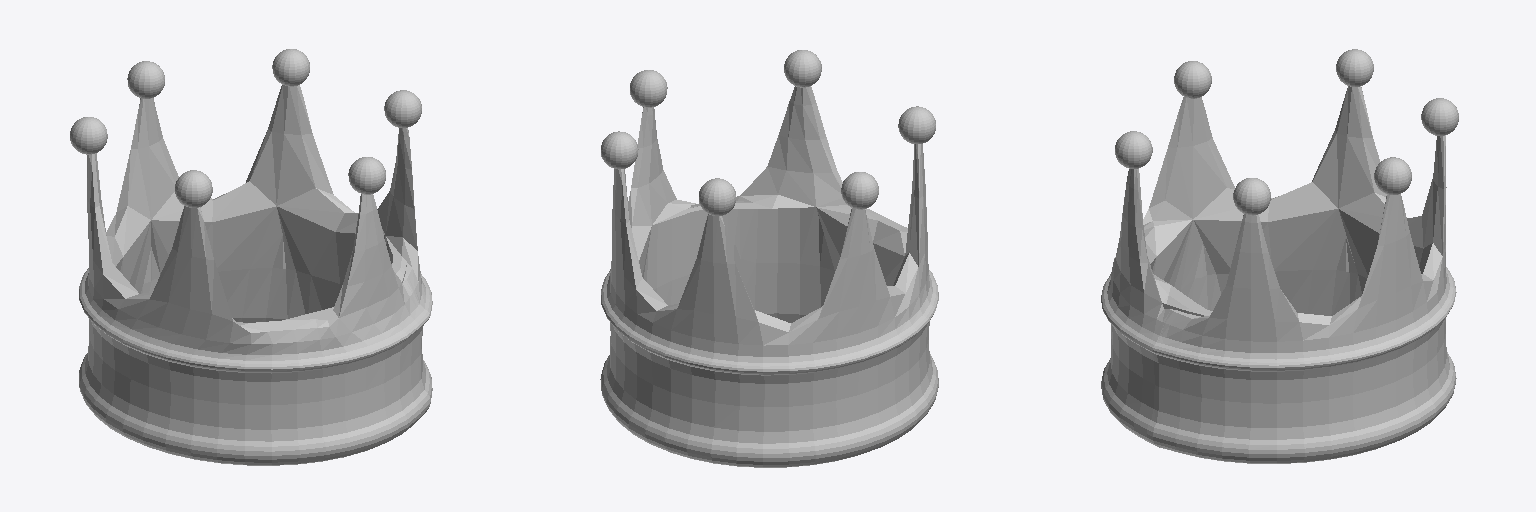
The model's file is Corona.obj.
3 renders of one model, left to right at view 1: azimuth 30°, elevation 25°; view 2: azimuth 150°, elevation 25°; view 3: azimuth 270°, elevation 25°, orthographic.
Parts seen in each view (by area): view 1: pSphere7; view 2: pSphere7; view 3: pSphere7.
Boxes of the visible parts, <box> form: pSphere7: <box>70,49,432,465</box>; pSphere7: <box>600,50,938,467</box>; pSphere7: <box>1101,49,1458,463</box>.
Size of the model in its own units: 1.06 by 0.9548 by 1.09.